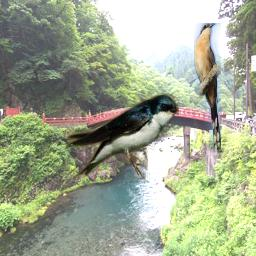Cuckoo: (194, 23, 221, 153)
Swallow: (64, 93, 179, 181)
